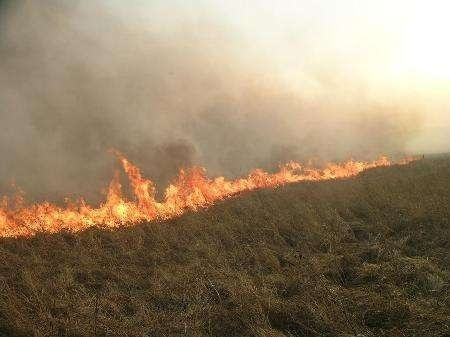fire: (7, 131, 423, 235)
